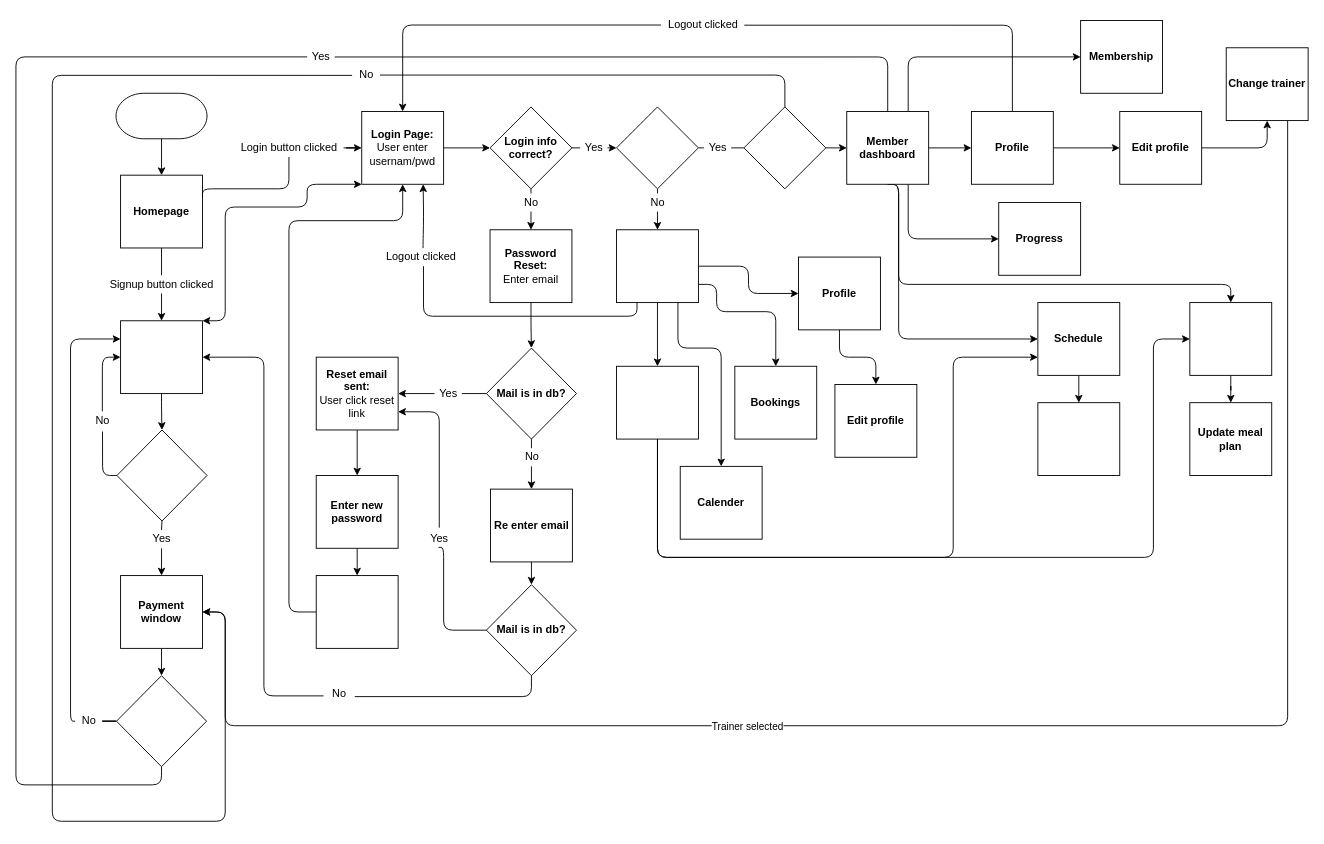
The diagram is 1324 pixels wide and 844 high, and some of its shapes have lost their labels. The centre of each missing label's shape, as x and y in pixels:
Assigned memebers: the point at 657,402
Confirmation: the point at 356,611
Details valid?: the point at 161,475
Meal Plan: the point at 1230,338
Member?: the point at 657,147
Membership renewed?: the point at 784,147
Payment completed?: the point at 161,721
Signup Page: User insert signup details: the point at 161,357
Start: the point at 161,115
Trainer dashboard: the point at 657,266
Update schedule: the point at 1078,438
